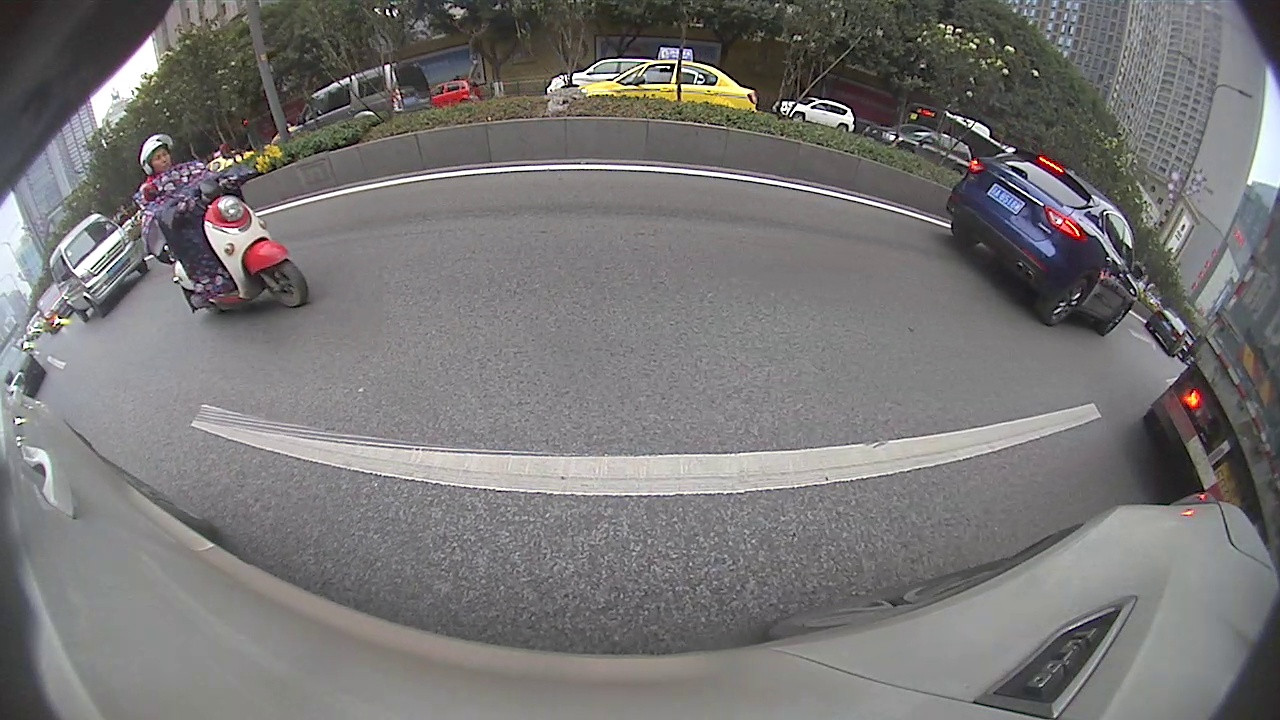car: (948, 150, 1138, 333), (52, 216, 149, 322), (1151, 309, 1187, 355)
front: (249, 252, 309, 309), (1100, 302, 1132, 335), (86, 296, 107, 321), (792, 110, 806, 125)
rear: (1042, 277, 1093, 327)
rider: (129, 133, 313, 315)
